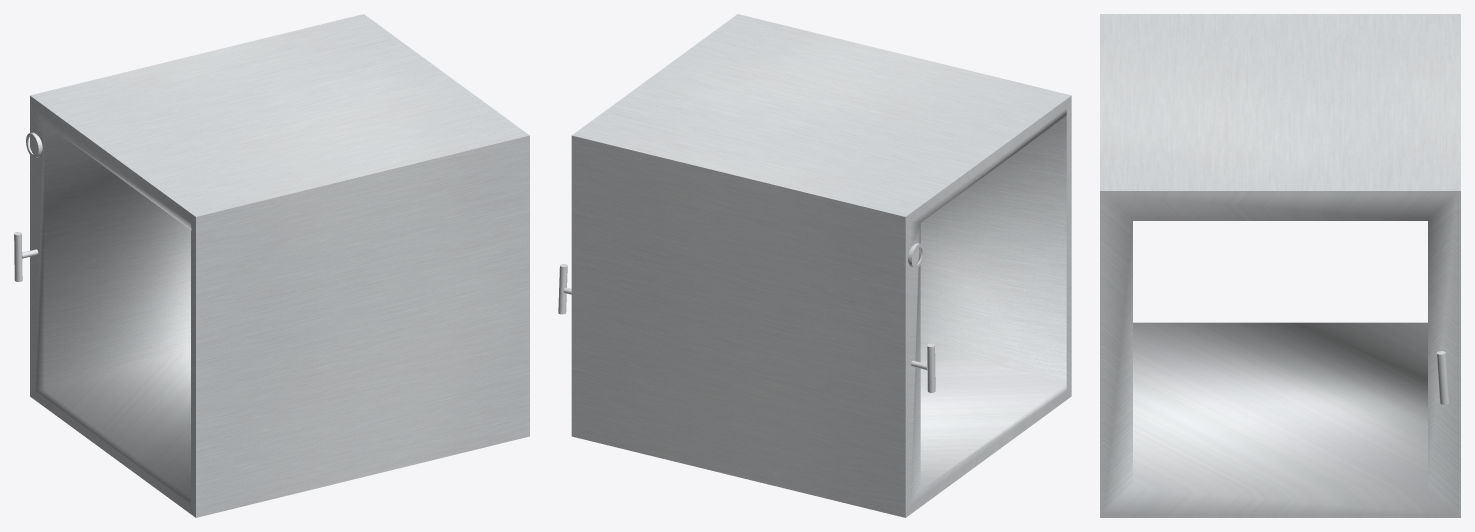
Rendered from 傳送箱本人.fbx.
3 renders of one model, left to right at view 1: azimuth 30°, elevation 25°; view 2: azimuth 150°, elevation 25°; view 3: azimuth 270°, elevation 25°, orthographic. The views are drawn at different scales.
Parts seen in each view (by area): view 1: Cylinder001; view 2: Cylinder001; view 3: Cylinder001.
Boxes of the visible parts, <box> form: Cylinder001: <box>14,14,529,517</box>; Cylinder001: <box>558,14,1071,517</box>; Cylinder001: <box>1100,14,1460,517</box>.
Size of the model in its own units: 102 by 78 by 78.
1 material, 1 textured.
